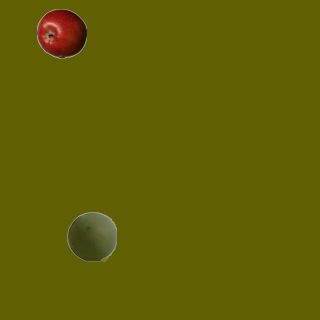Apple Braeburn: (36, 8, 86, 58)
Grape White 4: (66, 211, 116, 261)
